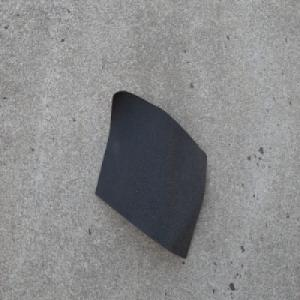PaintChip: (94, 88, 207, 260)
